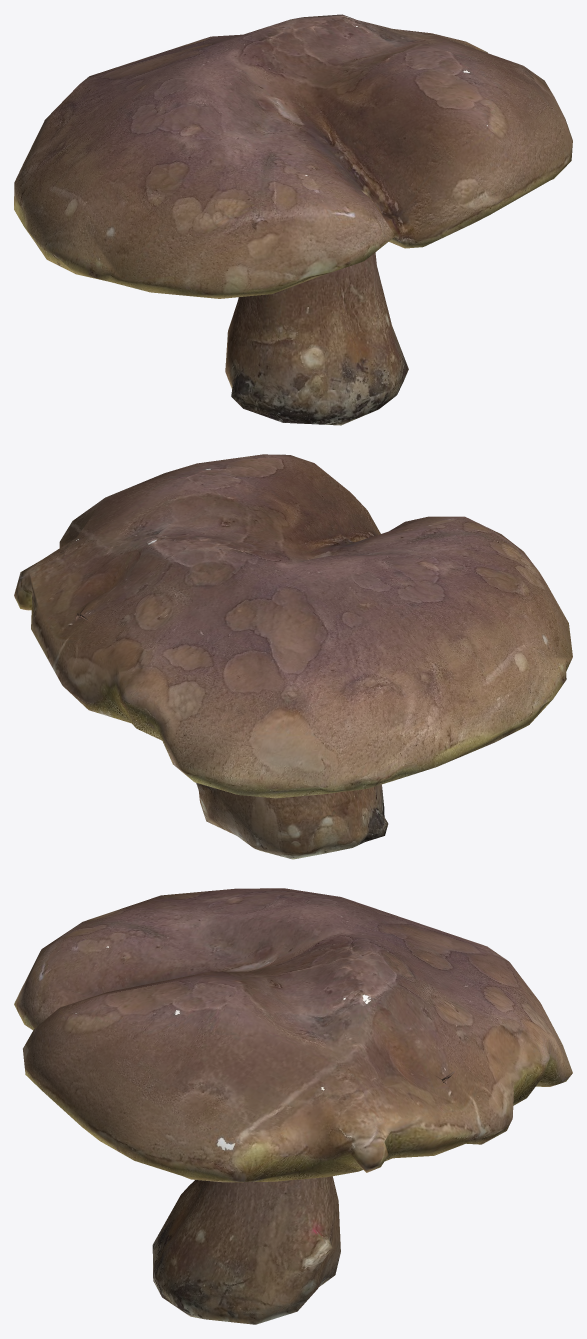
File: BrownVegetableMushroom02.fbx
The picture shows the model from 3 angles, top to bottom: view 1: azimuth 30°, elevation 25°; view 2: azimuth 150°, elevation 25°; view 3: azimuth 270°, elevation 25°; orthographic projection. The views are drawn at different scales.
Visible parts, largest first — view 1: Mushroom02; view 2: Mushroom02; view 3: Mushroom02.
Part boxes in pixels (x1,y1,x2,y2): Mushroom02: [14, 14, 572, 425]; Mushroom02: [14, 454, 572, 859]; Mushroom02: [14, 888, 572, 1324].
Bounding box in the file's own units: 0.133 × 0.1207 × 0.0838.
Materials: 1 (1 with a texture image).
